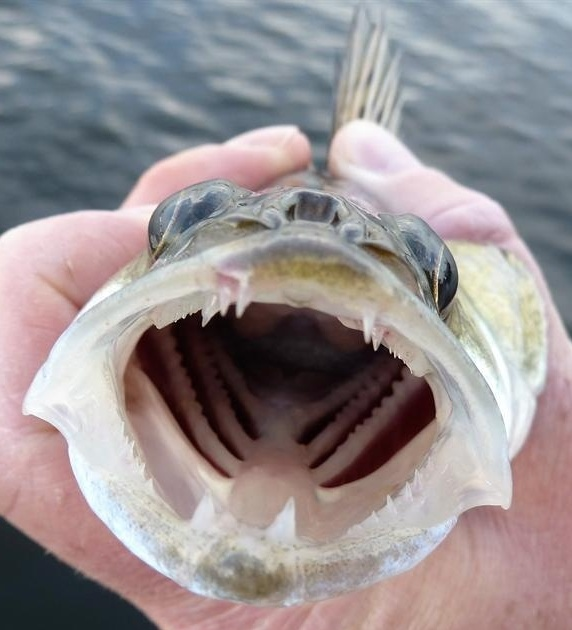Sander lucioperca: (20, 1, 552, 610)
